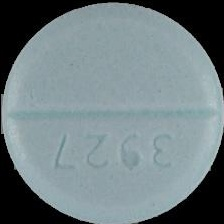68788-9207: (0, 0, 224, 224)
